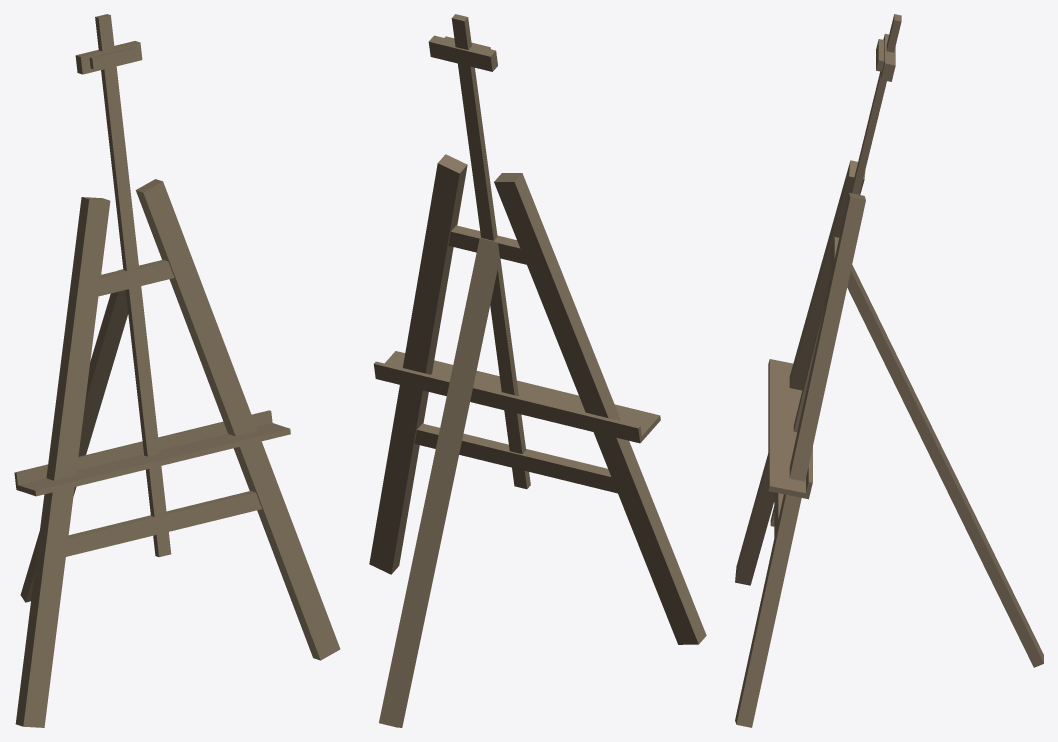
File: colored easel.fbx
The picture shows the model from 3 angles, left to right: view 1: azimuth 30°, elevation 25°; view 2: azimuth 150°, elevation 25°; view 3: azimuth 270°, elevation 25°; orthographic projection. The views are drawn at different scales.
Visible parts, largest first — view 1: polySurface9; view 2: polySurface9; view 3: polySurface9.
Boxes of the visible parts, bbox=[...] form: polySurface9: bbox=[14, 14, 340, 727]; polySurface9: bbox=[369, 14, 706, 727]; polySurface9: bbox=[735, 14, 1043, 727].
Bounding box in the file's own units: 1.92 × 3.66 × 1.58.
